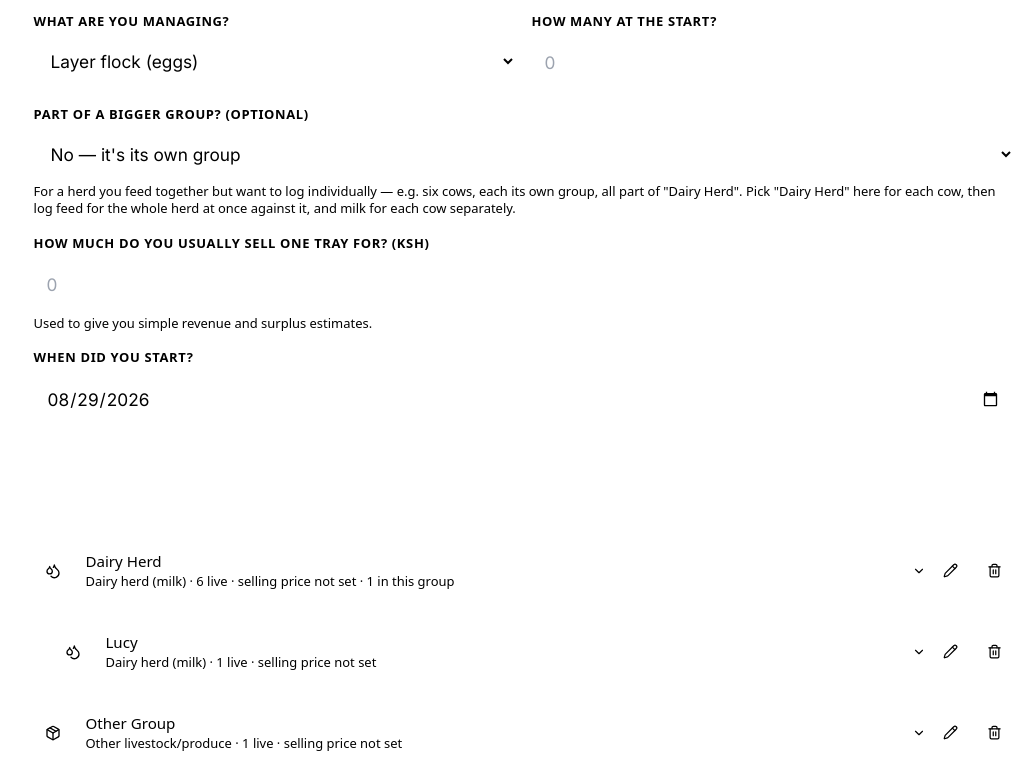
it: UnitsView — grouping individual animals under a herd › a group that already has members of its own cannot become a member of another group (no 3-level nesting)
(page scrolled)
Click the button named "Edit Dairy Herd": (950, 571) [930,551,970,591]
(page scrolled)
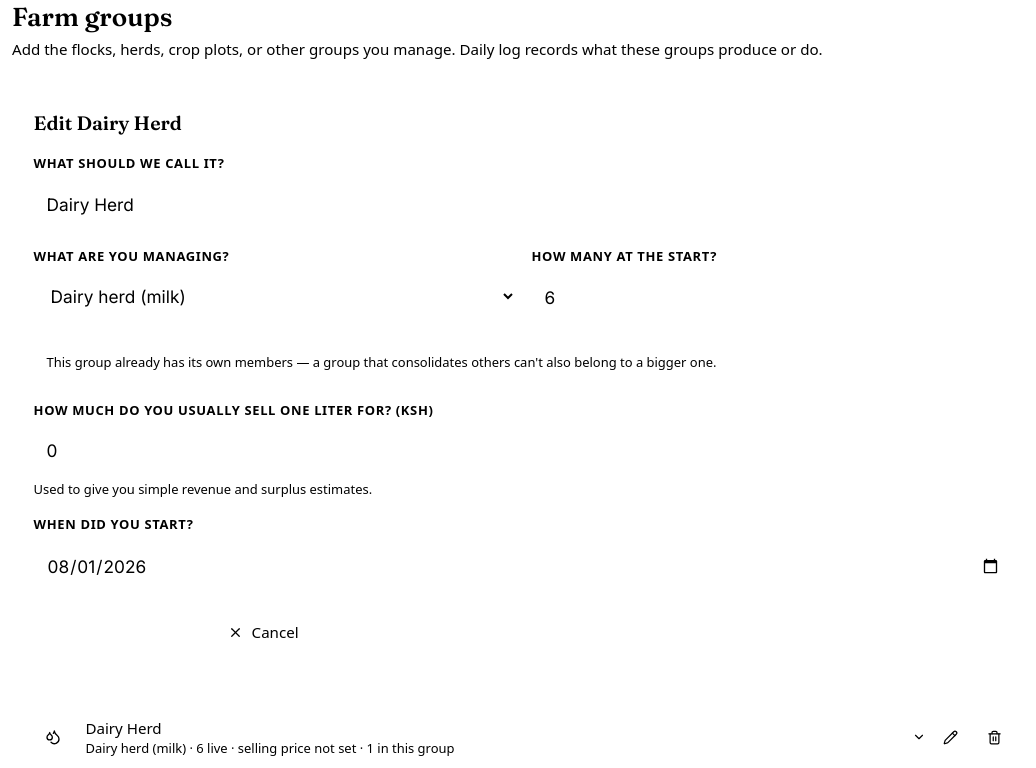
Now the text "already has its own members" is shown, box [46,353,716,371]
Now the text "Part of a bigger group? (optional)" is gone
